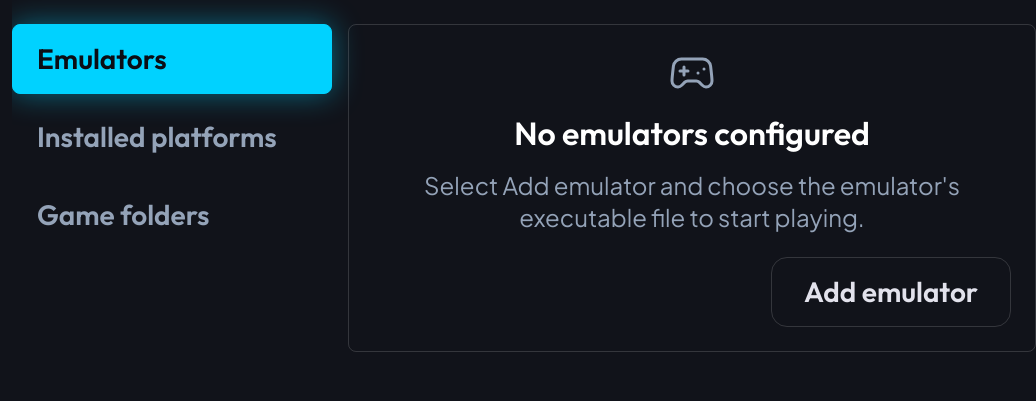
Test: SettingsScreen › says which category a screen inside Settings belongs to
The image size is (1036, 401).
Step 1. Click the tab "Game folders" → point(172, 215), box [12,180,332,250]
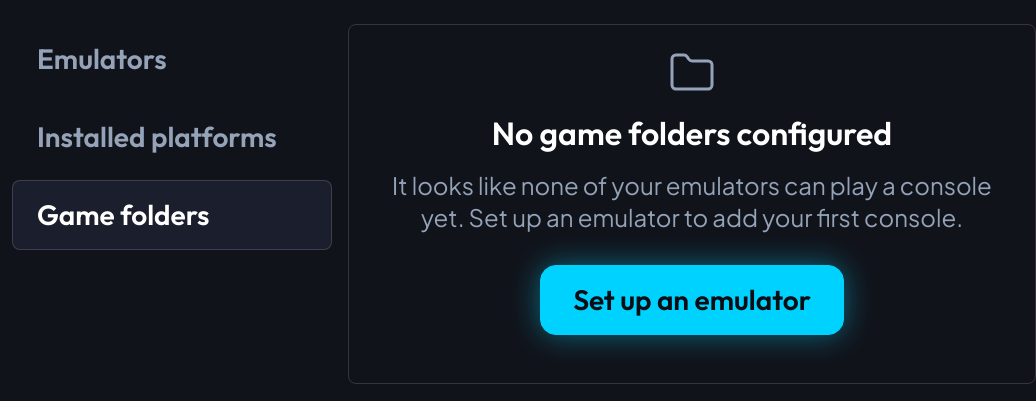
Step 2. Click the button "Set up an emulator" → point(692, 300), box [540,265,844,335]
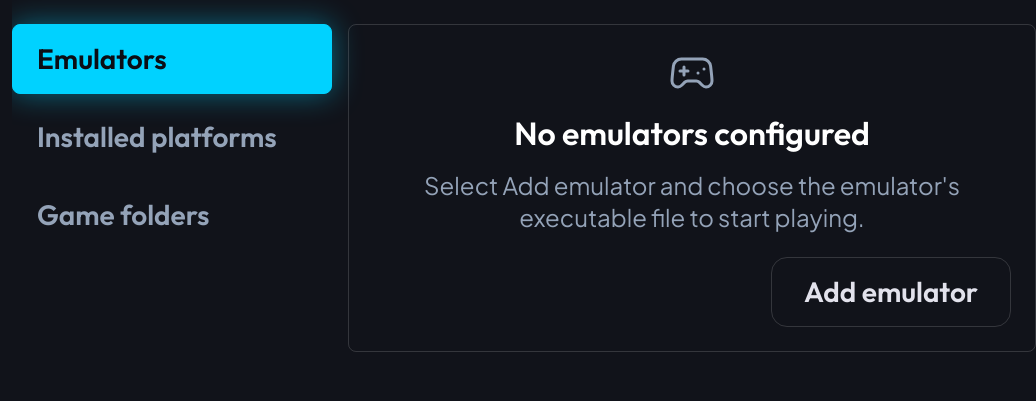
Step 3. Click the button "Add emulator" → point(891, 292), box [771,257,1011,327]
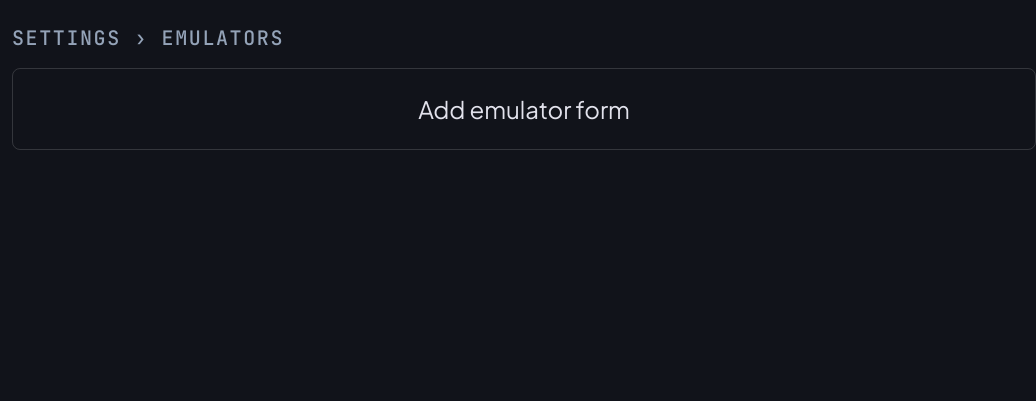
Expected: the text "Settings › Emulators" is shown, [12,25,284,51]
